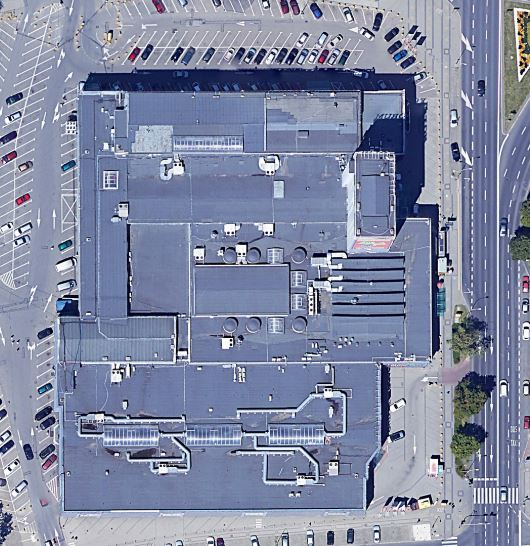shopping_center: (52, 73, 442, 521)
